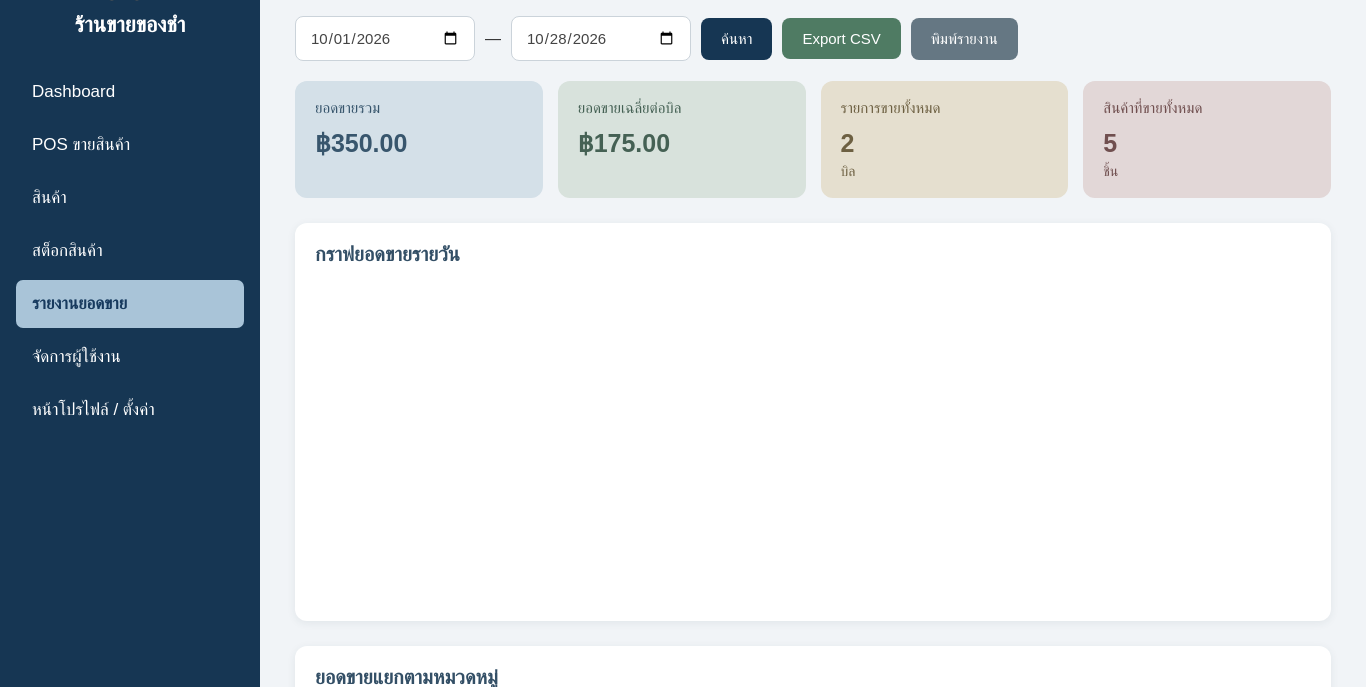
Test case: Report page › ตรวจสอบช่วงวันที่ก่อนค้นหา
Type "2026-11-30" into the date field named "วันที่เริ่มต้น". click: (385, 38)
box: top-left (295, 16), bottom-right (475, 61)
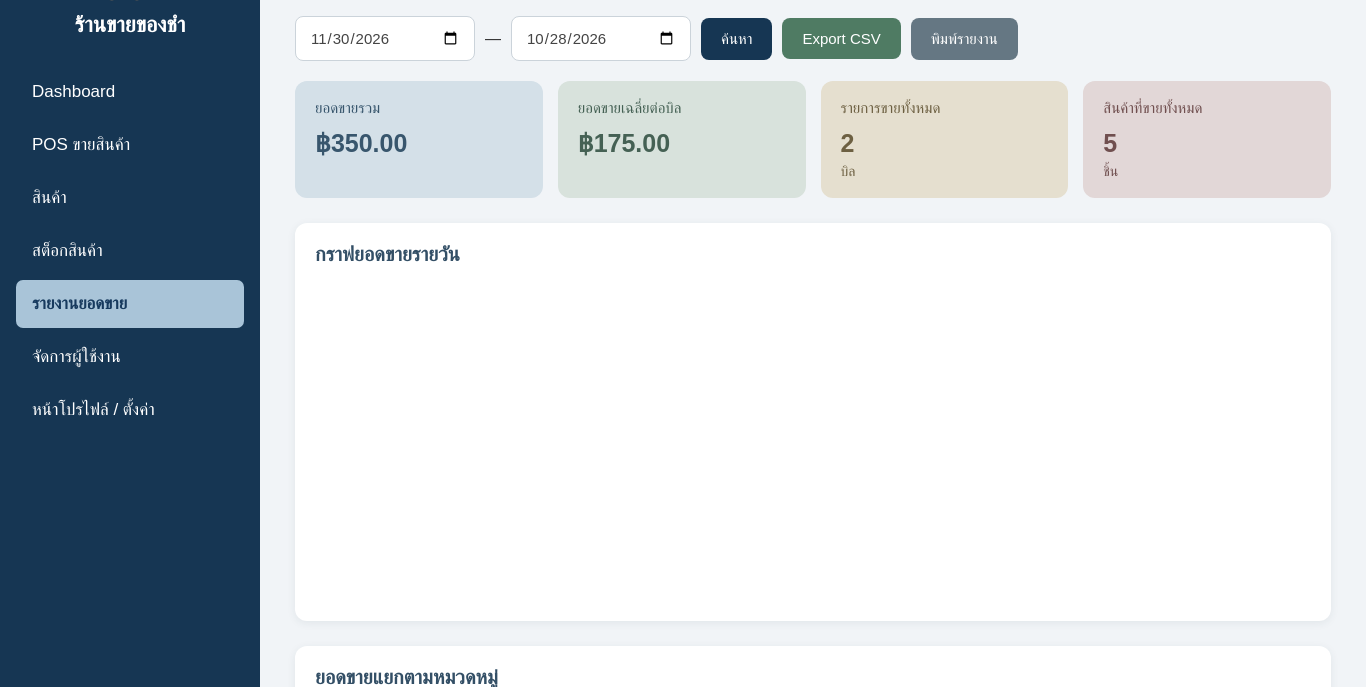
Type "2026-11-01" into the date field named "วันที่สิ้นสุด". click: (601, 38)
box: top-left (511, 16), bottom-right (691, 61)
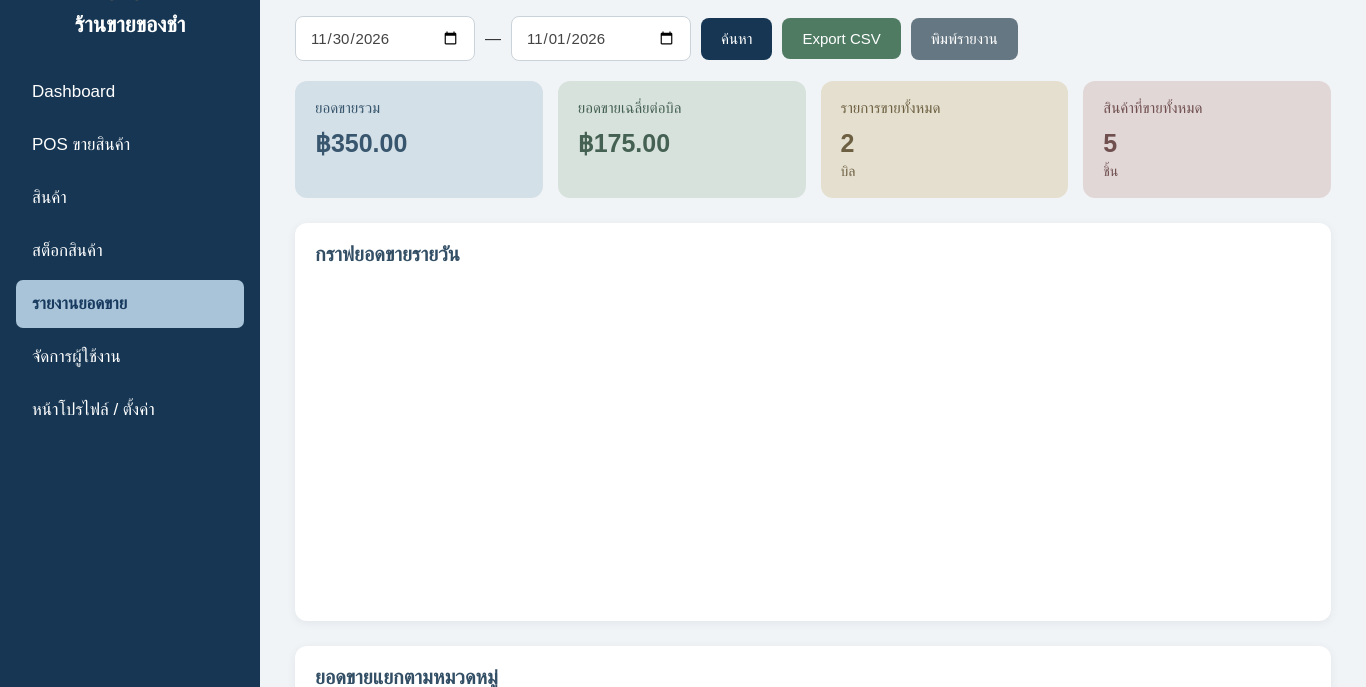
Click the button "ค้นหา". click: (737, 38)
box: top-left (701, 18), bottom-right (772, 60)
(page scrolled)
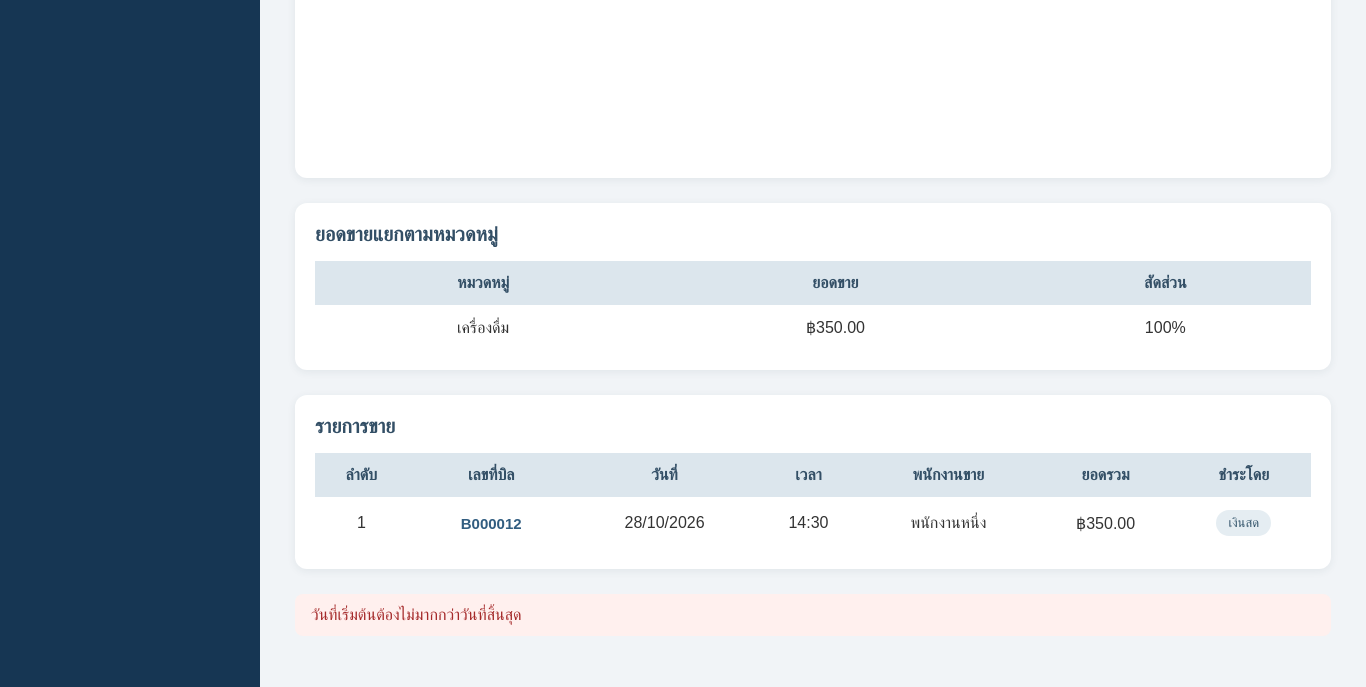
Now the message reads "วันที่เริ่มต้นต้องไม่มากกว่าวันที่สิ้นสุด", box top-left (311, 606), bottom-right (522, 623)
